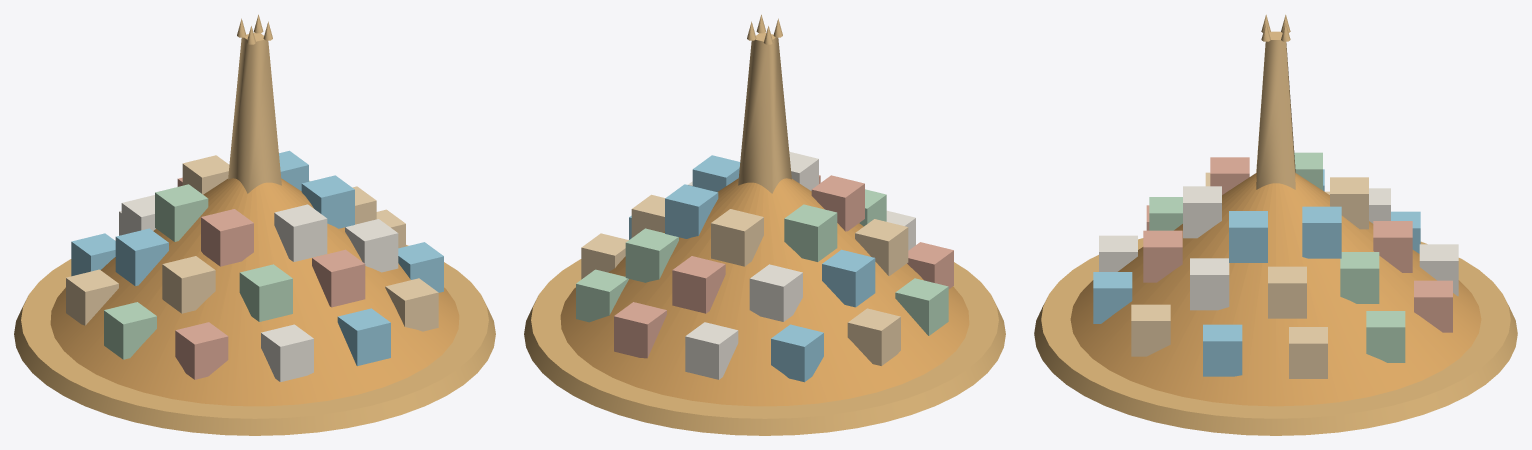
File: ghardaia.glb
The picture shows the model from 3 angles, left to right: view 1: azimuth 30°, elevation 25°; view 2: azimuth 150°, elevation 25°; view 3: azimuth 270°, elevation 25°; orthographic projection.
Visible parts, largest first — view 1: house, hill, ground, minaret; view 2: house, hill, ground, minaret; view 3: hill, house, ground, minaret.
Part boxes in pixels (<box>): house: <box>66,150,443,381</box>; hill: <box>50,178,459,406</box>; ground: <box>14,245,495,435</box>; minaret: <box>228,14,281,193</box>; house: <box>576,151,953,382</box>; hill: <box>560,178,969,406</box>; ground: <box>524,259,1005,435</box>; minaret: <box>738,14,791,193</box>; hill: <box>1070,173,1481,406</box>; house: <box>1093,152,1458,378</box>; ground: <box>1034,238,1517,435</box>; minaret: <box>1256,14,1295,189</box>.
Size of the model in its own units: 2.47 by 1.78 by 2.47.
